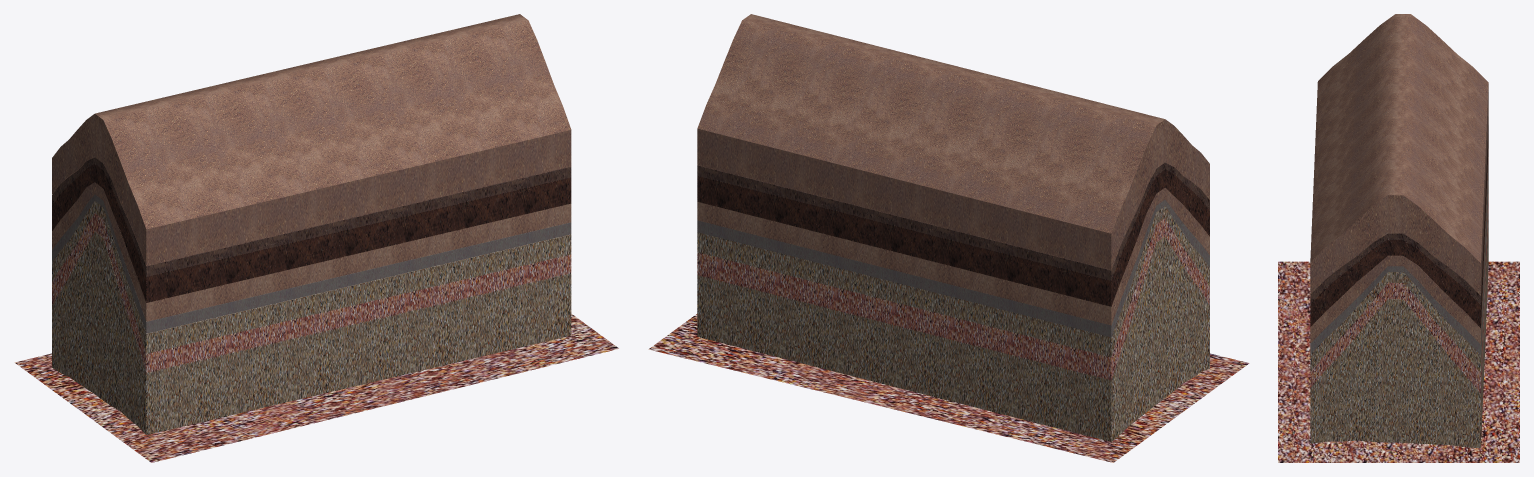
File: dizhi1207.obj
3 views of the same model, side by side, from view 1: azimuth 30°, elevation 25°; view 2: azimuth 150°, elevation 25°; view 3: azimuth 270°, elevation 25° (orthographic). The views are drawn at different scales.
Visible parts, largest first — view 1: dizhi1207, Plane; view 2: dizhi1207, Plane; view 3: dizhi1207, Plane.
Boxes of the visible parts, <box> form: dizhi1207: <box>52,14,571,434</box>; Plane: <box>14,314,618,462</box>; dizhi1207: <box>697,14,1209,441</box>; Plane: <box>648,314,1249,462</box>; dizhi1207: <box>1310,14,1488,448</box>; Plane: <box>1278,261,1519,462</box>.
Size of the model in its own units: 4.71 by 2.79 by 2.39.
6 materials, 6 textured.
